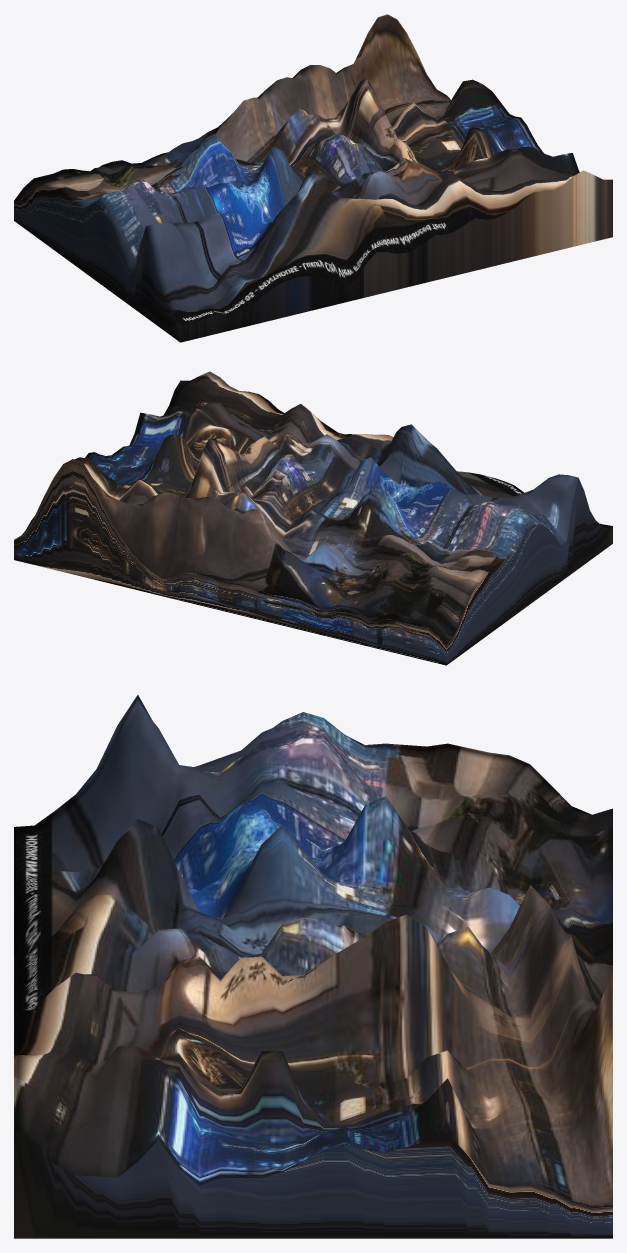
The model's file is INTERIOR_05_Penthouse.glb.
3 renders of one model, top to bottom at view 1: azimuth 30°, elevation 25°; view 2: azimuth 150°, elevation 25°; view 3: azimuth 270°, elevation 25°, orthographic. The views are drawn at different scales.
Parts seen in each view (by area): view 1: INTERIOR_05_Penthouse; view 2: INTERIOR_05_Penthouse; view 3: INTERIOR_05_Penthouse.
Part boxes in pixels (x1,y1,x2,y2): INTERIOR_05_Penthouse: (14, 14, 612, 342); INTERIOR_05_Penthouse: (14, 371, 612, 665); INTERIOR_05_Penthouse: (14, 695, 612, 1238).
Bounding box in the file's own units: 2 × 0.51 × 1.33.
Materials: 1 (1 with a texture image).
